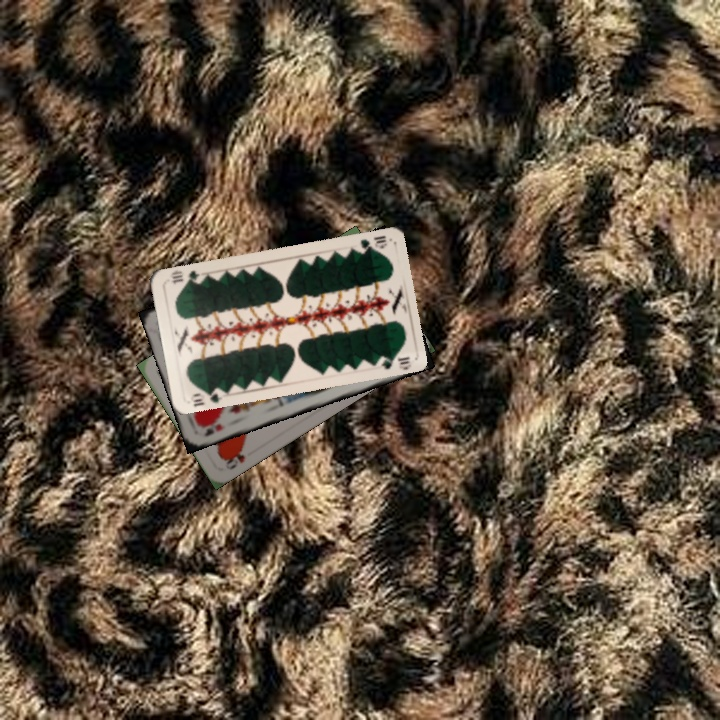G10: (186, 384, 225, 408), (356, 231, 390, 254)
HK: (200, 419, 228, 439)
HO: (220, 445, 248, 472)
